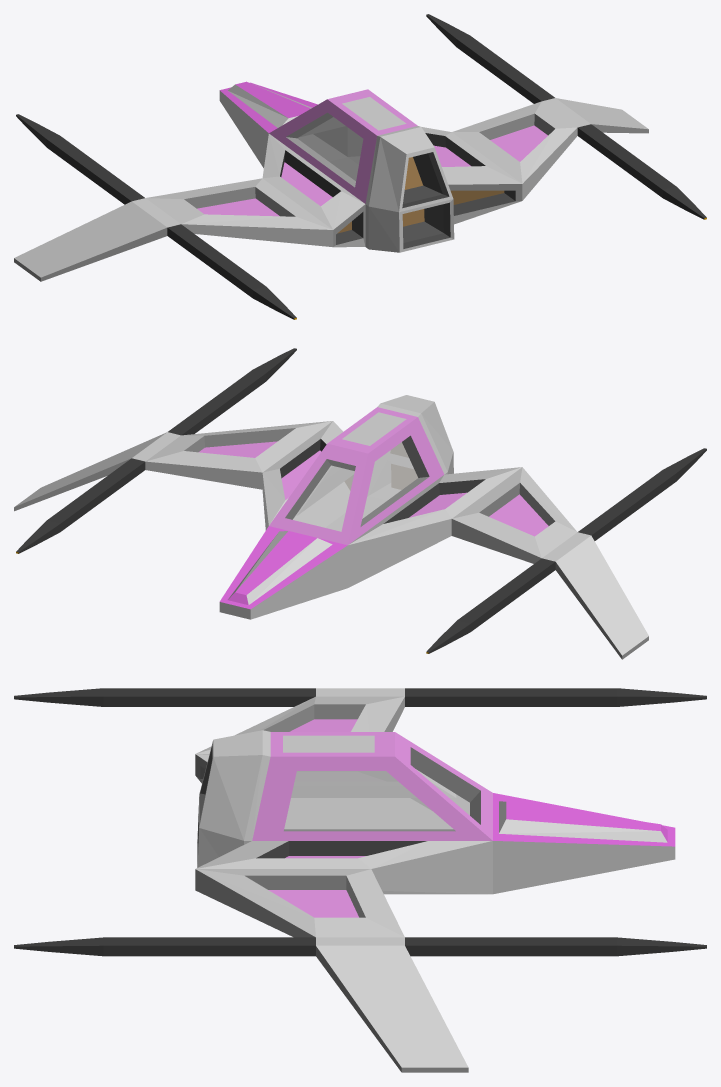
File: pinkship.fbx
The picture shows the model from 3 angles, top to bottom: view 1: azimuth 30°, elevation 25°; view 2: azimuth 150°, elevation 25°; view 3: azimuth 270°, elevation 25°; orthographic projection. The views are drawn at different scales.
Parts seen in each view (by area): view 1: pinkship; view 2: pinkship; view 3: pinkship.
Part boxes in pixels (x1,y1,x2,y2): pinkship: (14,14,706,319); pinkship: (14,348,706,659); pinkship: (14,688,706,1072).
Bounding box in the file's own units: 40.19 × 7.37 × 31.84.
